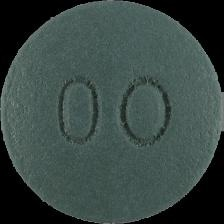0093-5734: (0, 0, 224, 224)
